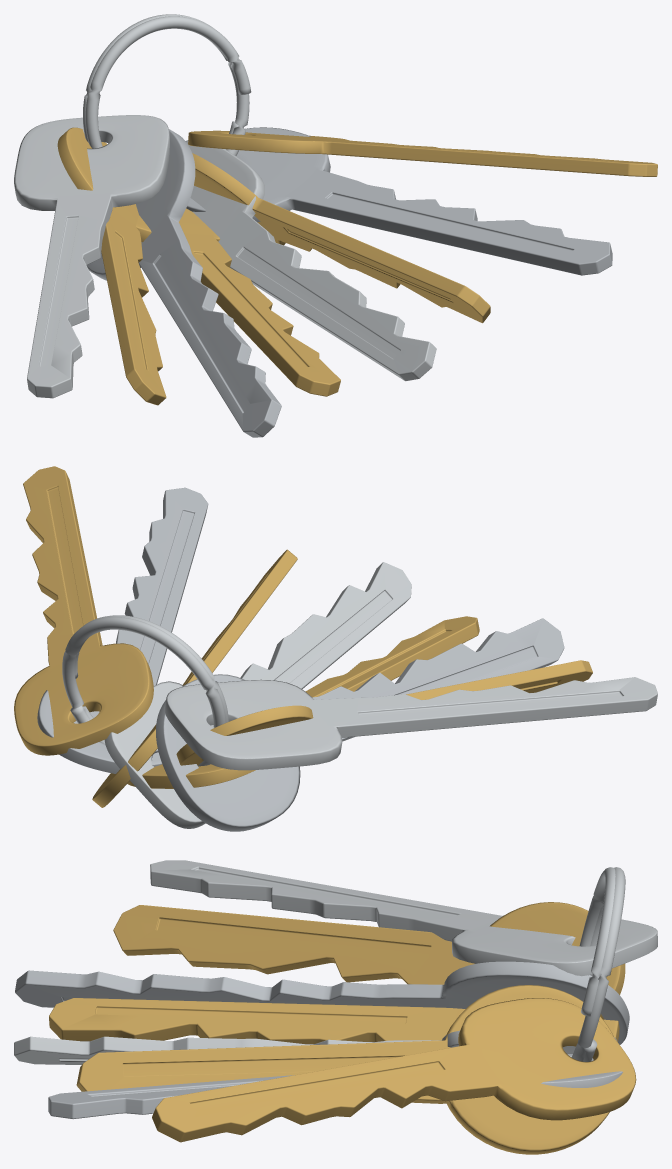
The model's file is keys-v7.glb.
The picture shows the model from 3 angles, top to bottom: view 1: azimuth 30°, elevation 25°; view 2: azimuth 150°, elevation 25°; view 3: azimuth 270°, elevation 25°; orthographic projection. The views are drawn at different scales.
Visible parts, largest first — view 1: Individual machined house key 0, Individual machined house key 6, Individual machined house key 4, Individual machined house key 2, Individual machined house key 5, Individual machined house key 1, Individual machined house key 3, Individual machined house key 7, Fine double turn steel split ring; view 2: Individual machined house key 0, Individual machined house key 7, Individual machined house key 2, Individual machined house key 4, Individual machined house key 6, Individual machined house key 3, Individual machined house key 1, Fine double turn steel split ring, Individual machined house key 5; view 3: Individual machined house key 7, Individual machined house key 1, Individual machined house key 5, Individual machined house key 0, Individual machined house key 3, Individual machined house key 2, Fine double turn steel split ring, Individual machined house key 4, Individual machined house key 6.
Part boxes in pixels (x1,y1,x2,y2): Individual machined house key 0: (14,115,169,398); Individual machined house key 6: (186,127,612,275); Individual machined house key 4: (185,140,436,381); Individual machined house key 2: (86,129,281,437); Individual machined house key 5: (192,153,490,323); Individual machined house key 1: (57,127,166,405); Individual machined house key 3: (136,208,340,396); Individual machined house key 7: (188,130,657,176); Fine double turn steel split ring: (83,14,251,155); Individual machined house key 0: (164,677,657,770); Individual machined house key 7: (14,466,153,755); Individual machined house key 2: (156,618,564,831); Individual machined house key 4: (104,562,411,828); Individual machined house key 6: (37,487,208,773); Individual machined house key 3: (127,616,479,788); Individual machined house key 1: (176,660,592,765); Fine double turn steel split ring: (62,615,228,766); Individual machined house key 5: (92,549,297,807); Individual machined house key 7: (152,998,636,1142); Individual machined house key 1: (113,902,625,1019); Individual machined house key 5: (76,985,613,1154); Individual machined house key 0: (150,860,657,976); Individual machined house key 3: (49,998,619,1044); Individual machined house key 2: (15,961,629,1044); Fine double turn steel split ring: (571,867,625,1061); Individual machined house key 4: (14,1030,617,1064); Individual machined house key 6: (48,1054,622,1119).
Bounding box in the file's own units: 1 × 0.3322 × 0.7933.
